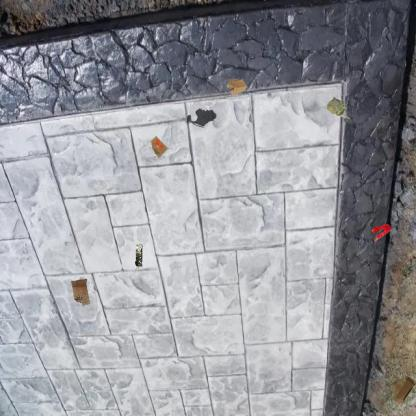dirty: (388, 374, 415, 404), (69, 277, 92, 308), (326, 95, 350, 119), (148, 134, 169, 158), (226, 76, 248, 98), (133, 242, 145, 268)
liquid: (186, 107, 216, 128), (370, 222, 392, 242)
